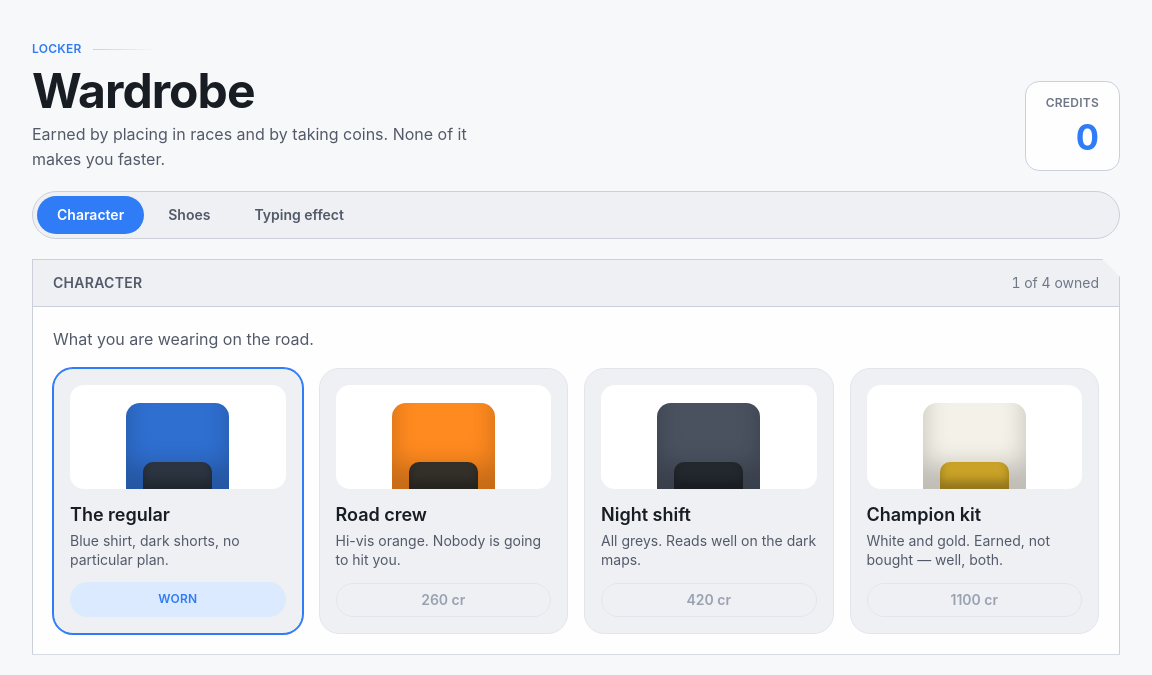
WardrobeScreen › switches between the three kinds
Click the tab "Shoes" at point(189, 215), box [148,196,230,234]
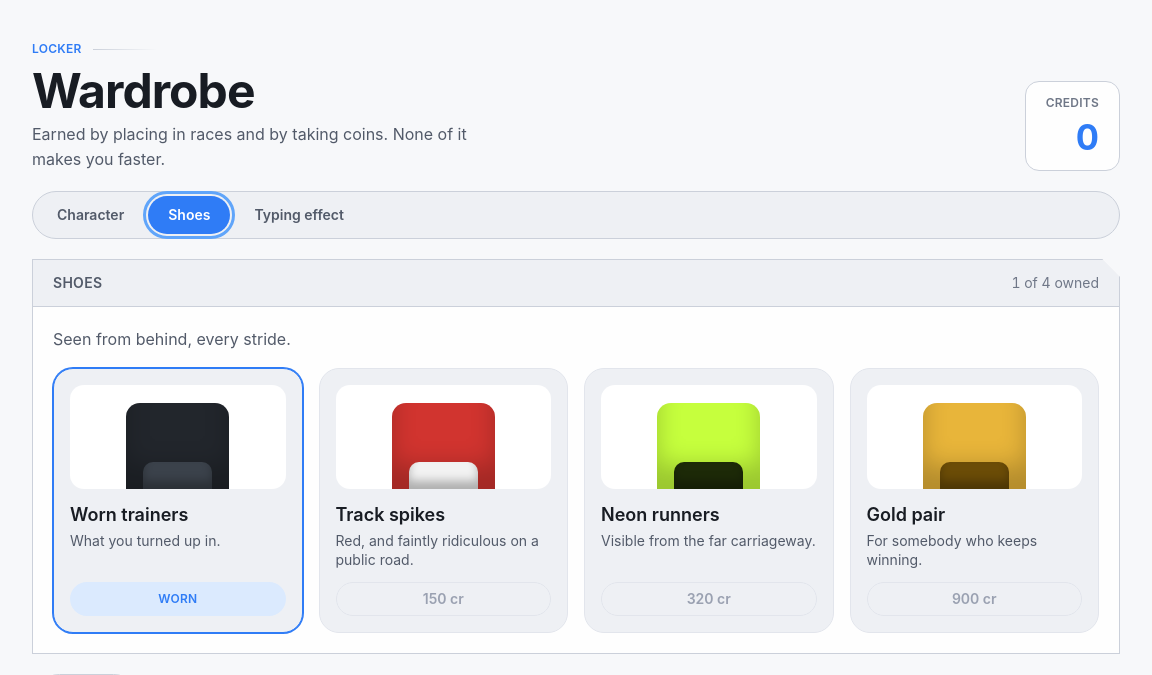
Now the text "Seen from behind, every stride." is shown, box [53,329,291,349]
